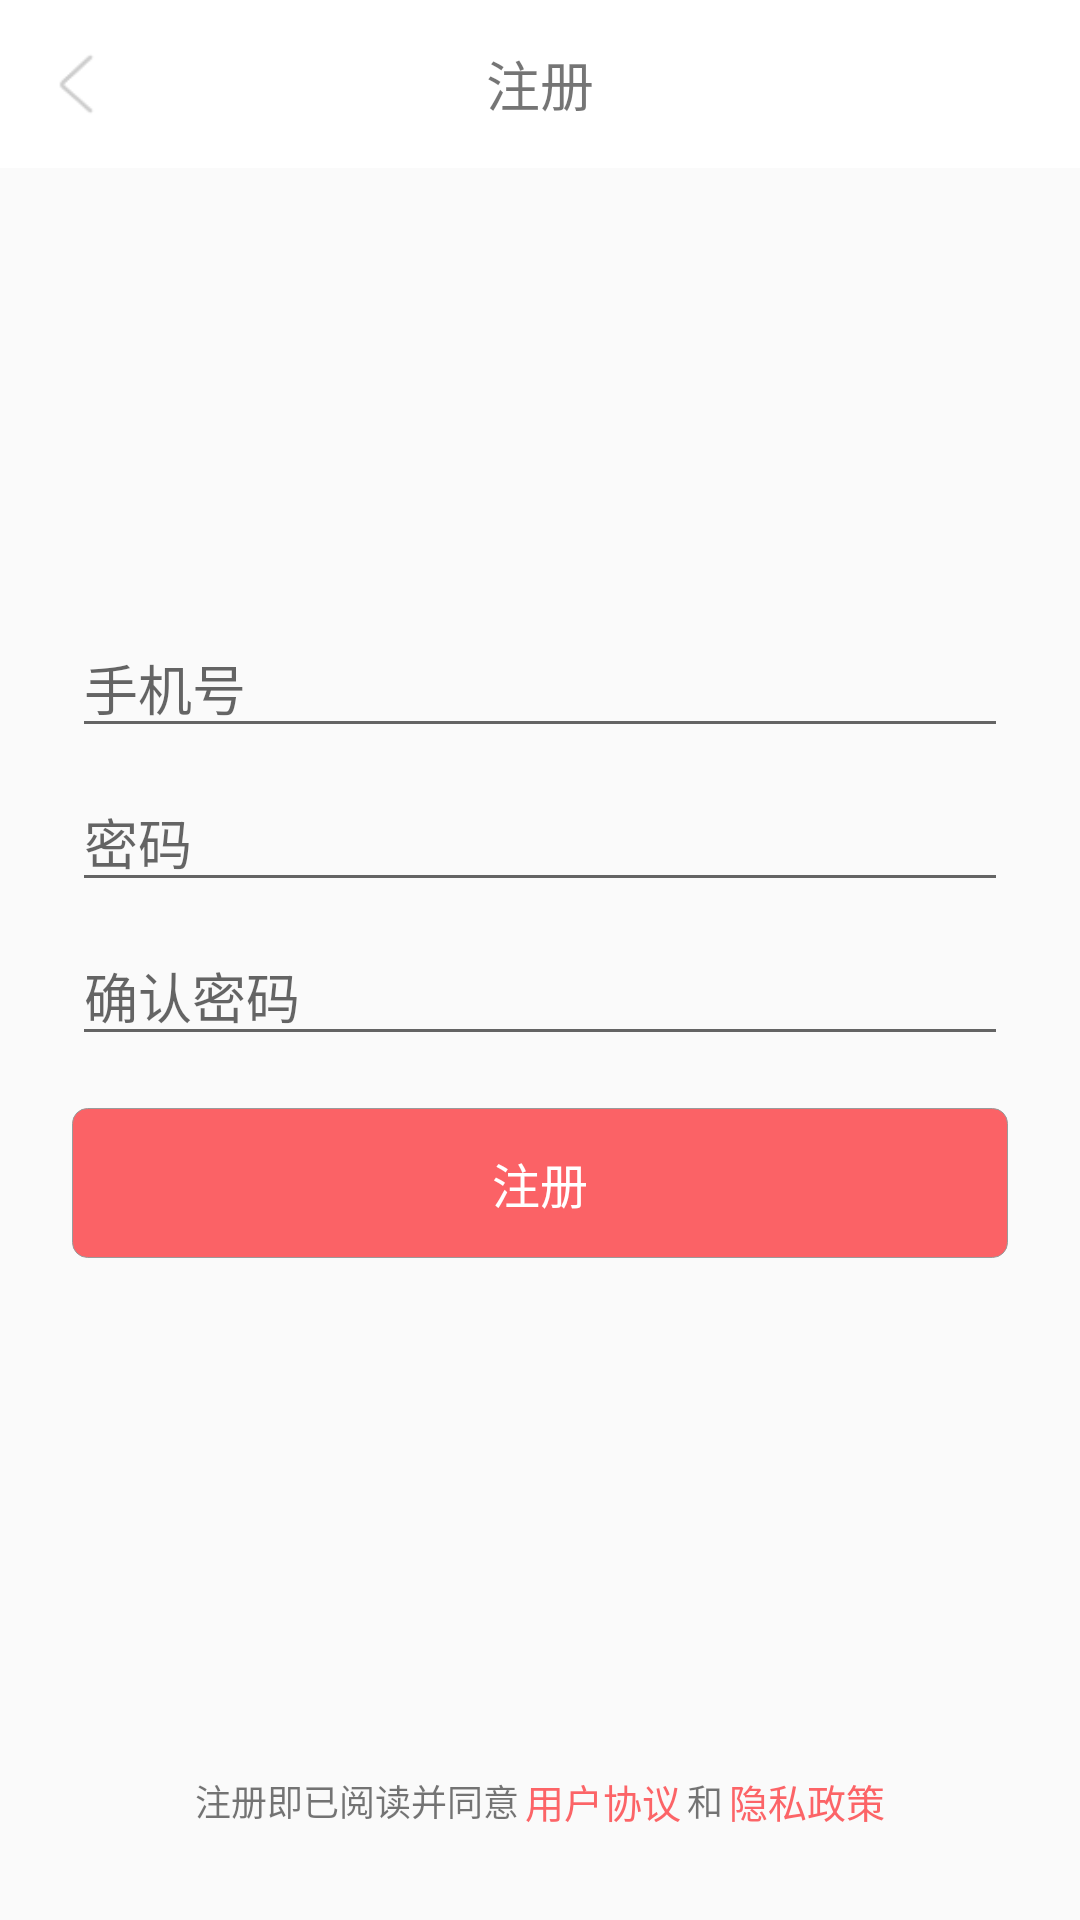

Icons on this 1080x1920 Android screen, each with its box as (x1, y1, x2, y2):
back: (60, 56, 92, 112)
